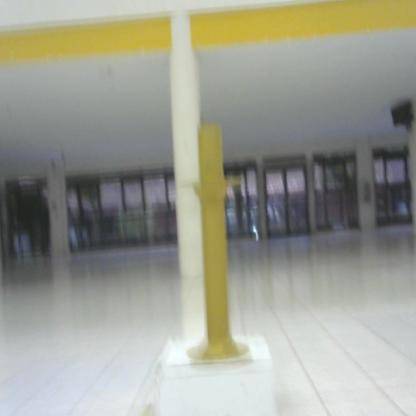pole: (176, 122, 258, 370)
